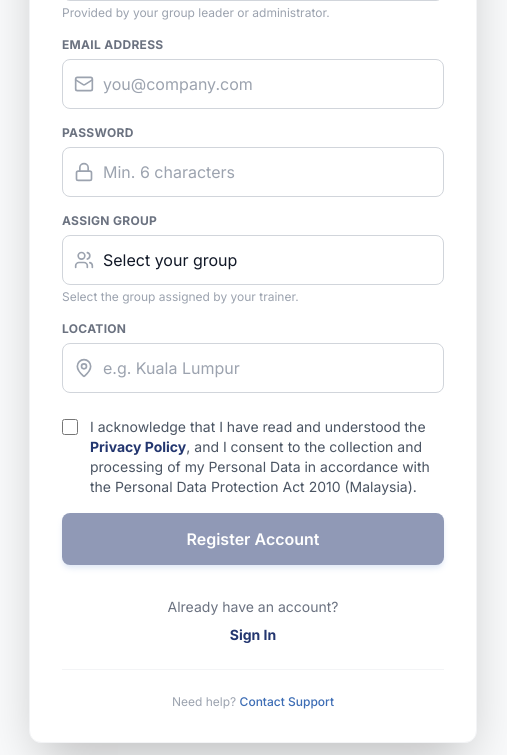
Test: Signup — field validation › shows all required field errors when submitting empty form
(page scrolled)
Expected: the button "Register Account" is shown, [62,513,444,565]
What coordinates should you click on to do the following:
click the checkbox
I would click on:
 (70, 427)
Its box is [62,419,78,435].
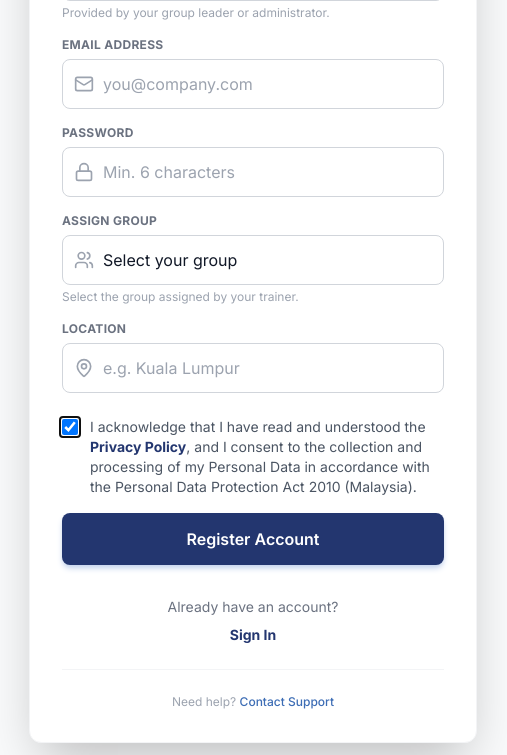
What coordinates should you click on to do the following:
click the button "Register Account"
I would click on:
 (253, 539)
Its box is [62,513,444,565].
(page scrolled)
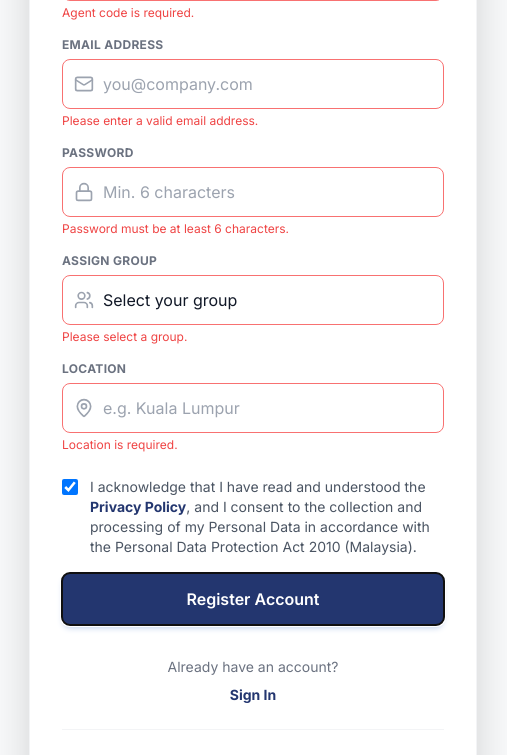
Result: the text "Agent code is required." is shown at [62,5,194,20]
Result: the text "Please enter a valid email address." is shown at [62,113,258,128]
Result: the text "Password must be at least 6 characters." is shown at [62,221,289,236]
